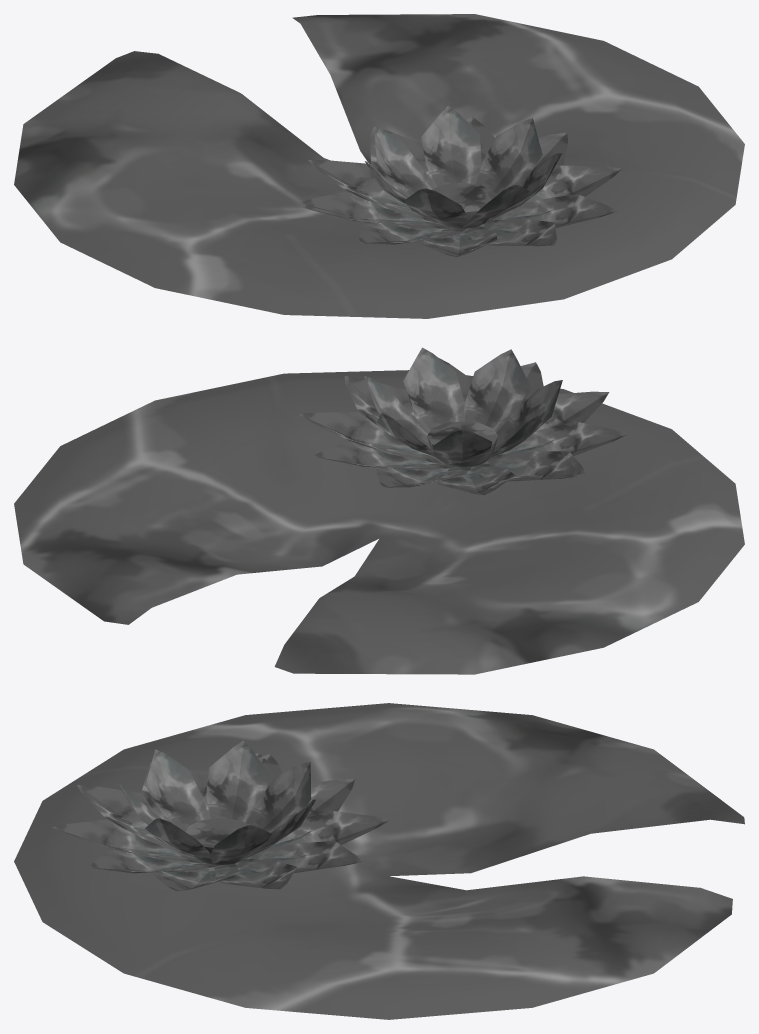
Rendered from Nenufar.fbx.
3 views of the same model, one above another, from view 1: azimuth 30°, elevation 25°; view 2: azimuth 150°, elevation 25°; view 3: azimuth 270°, elevation 25° (orthographic).
Visible parts, largest first — view 1: Plane.002; view 2: Plane.002; view 3: Plane.002.
Boxes of the visible parts, x1=… form: Plane.002: x1=14, y1=14, x2=744, y2=318; Plane.002: x1=14, y1=347, x2=744, y2=674; Plane.002: x1=14, y1=703, x2=744, y2=1019.
Bounding box in the file's own units: 880 × 126 × 858.
